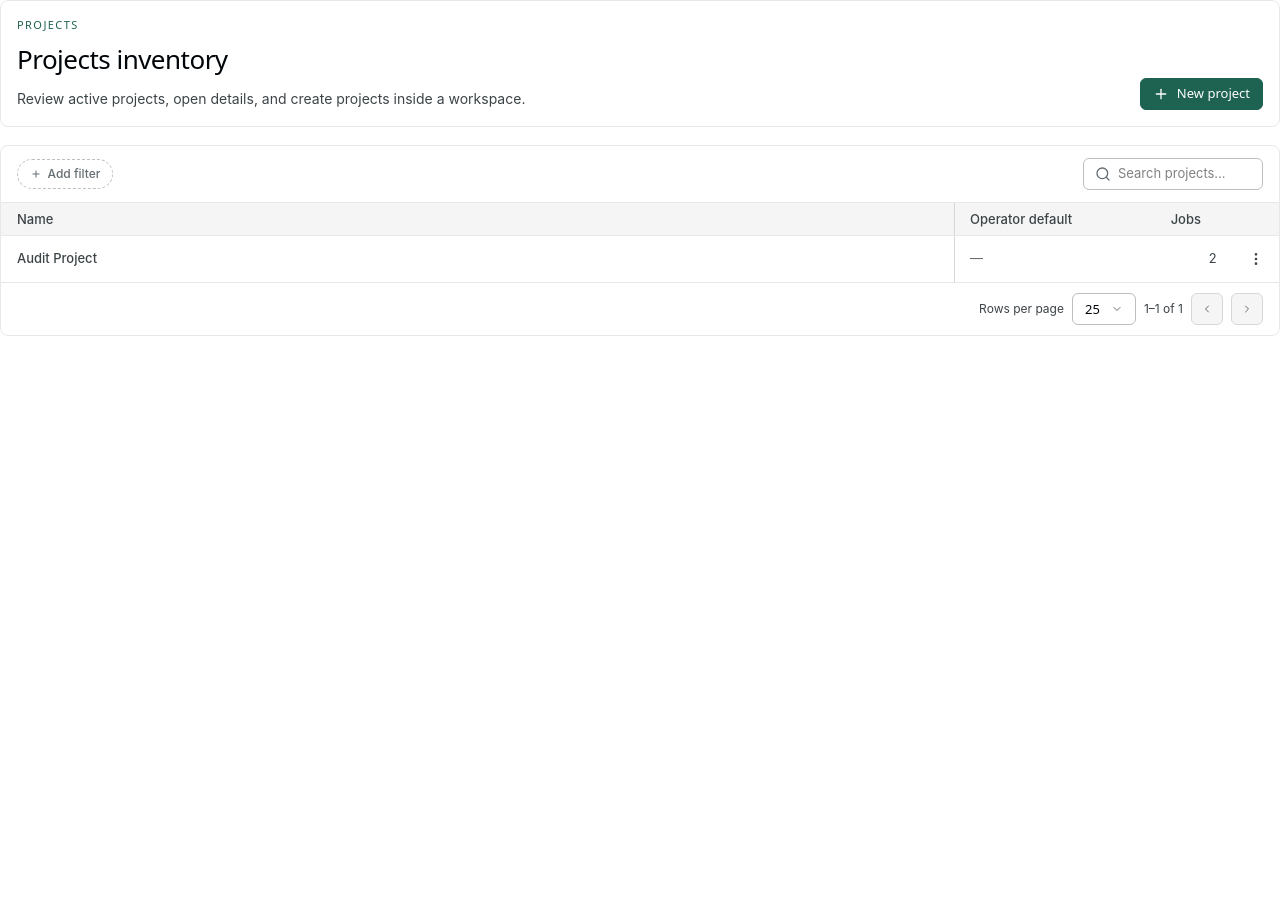
ProjectsListPage › offers authorized soft deletion for a project with terminal jobs without deleting those jobs
The image size is (1280, 900).
Expected: the text "Audit Project" is shown, [17, 250, 97, 266]
Click the button named "Actions for ".
click(1256, 259)  # box [1240, 243, 1272, 275]
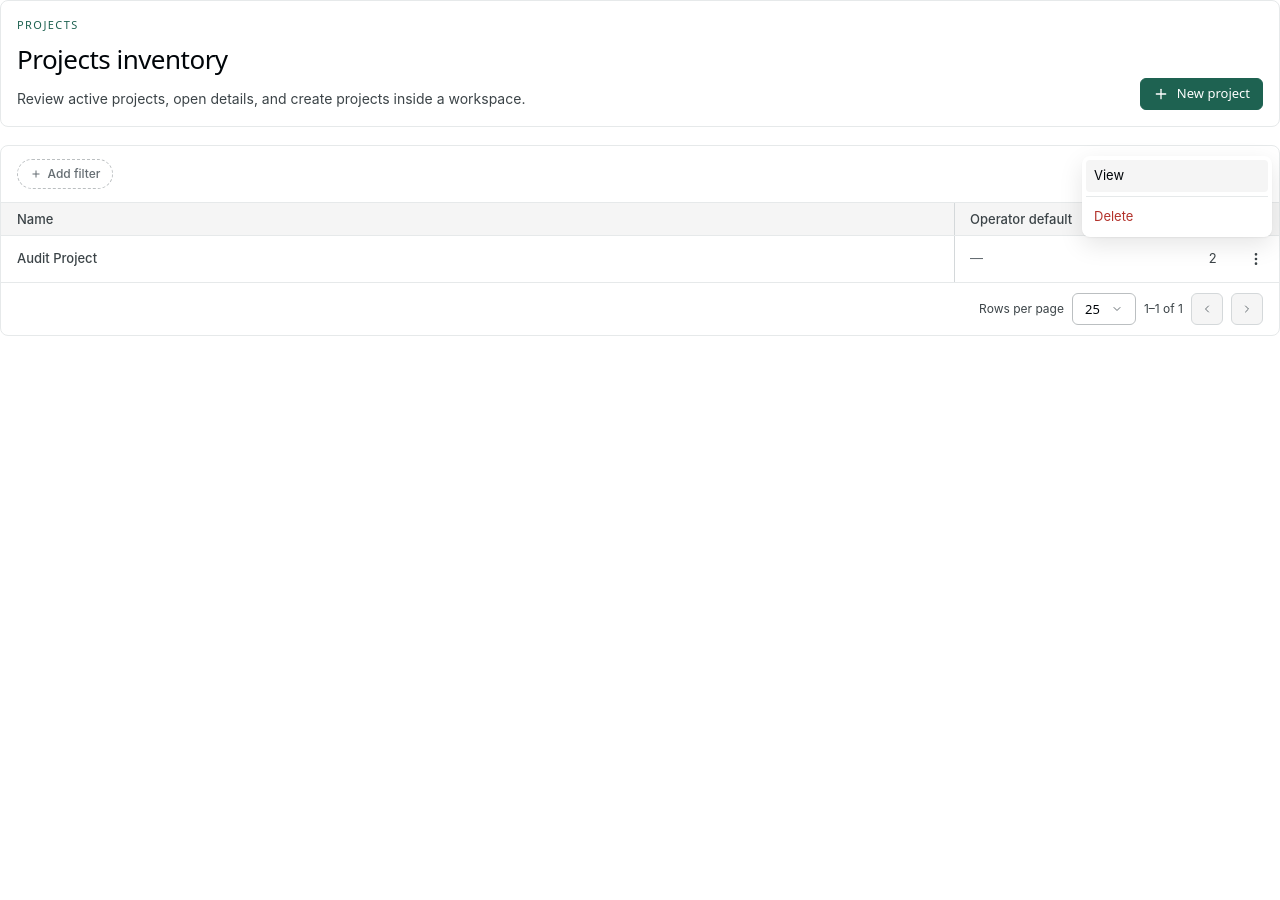
Click the menu item "Delete".
click(1177, 217)  # box [1086, 201, 1268, 233]
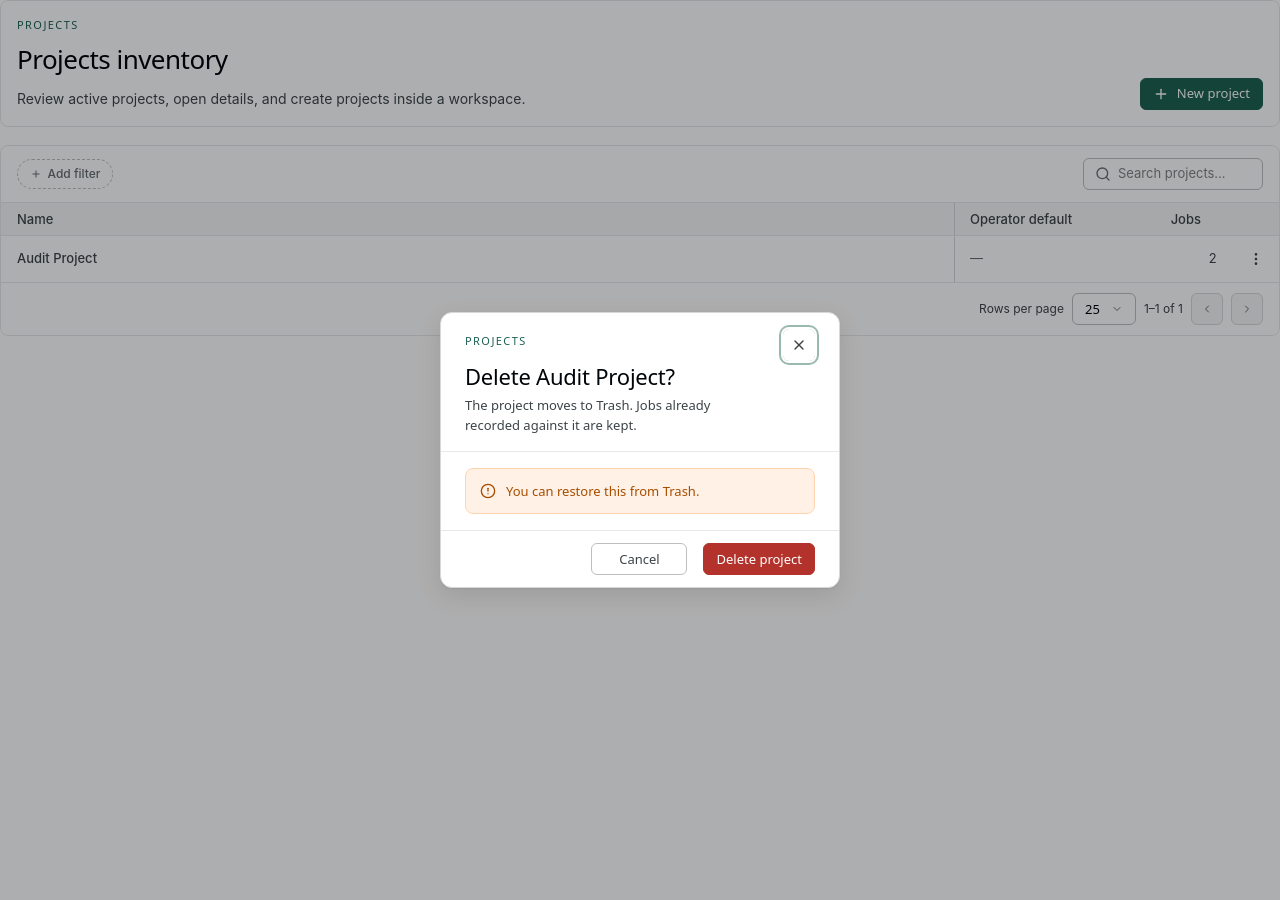
Expected: the text "You can restore this from Trash." is shown, [506, 482, 699, 500]
Click the button "Delete project".
click(759, 559)  # box [704, 543, 815, 575]
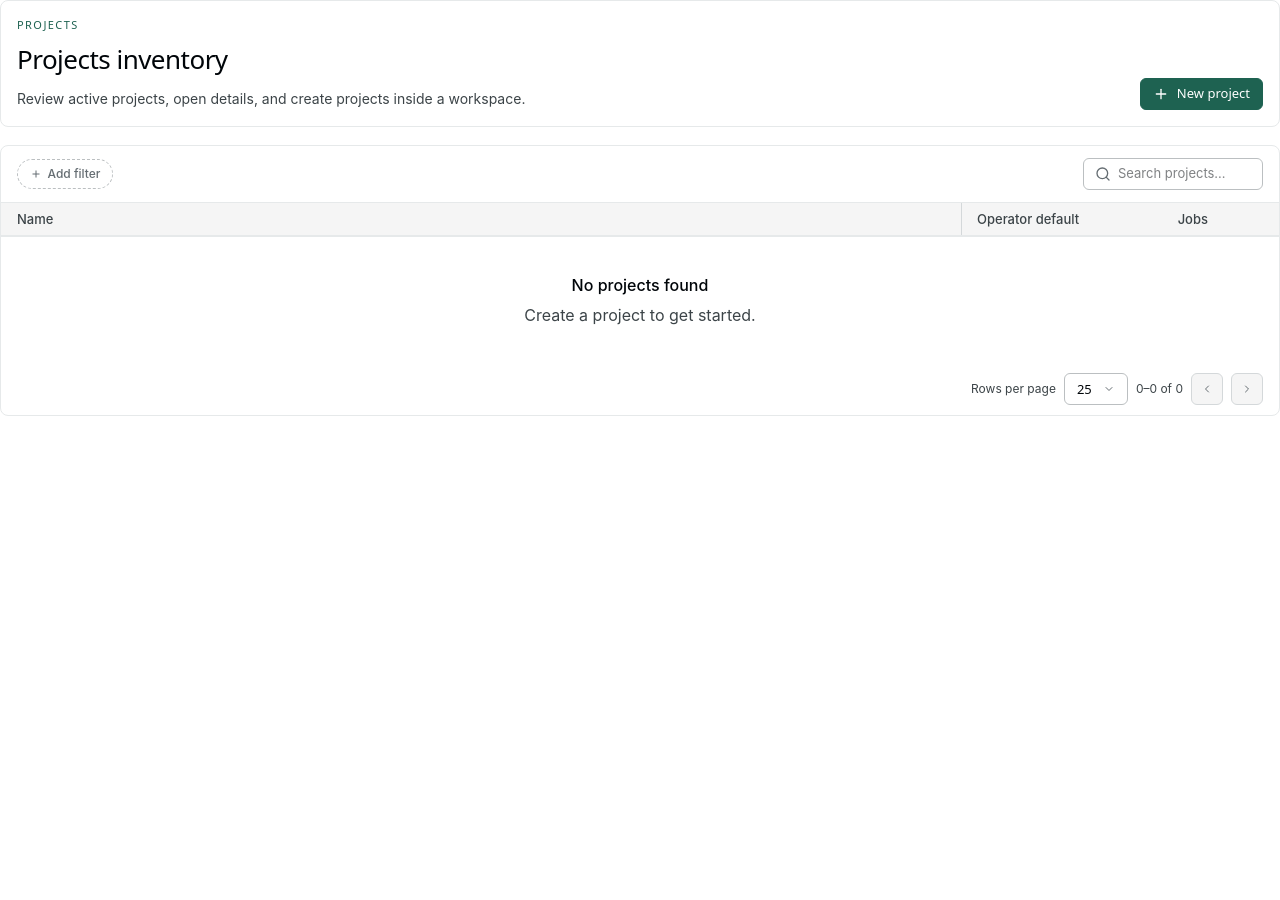
Expected: the dialog is gone
Expected: the text "No projects found" is shown, [572, 273, 708, 297]
